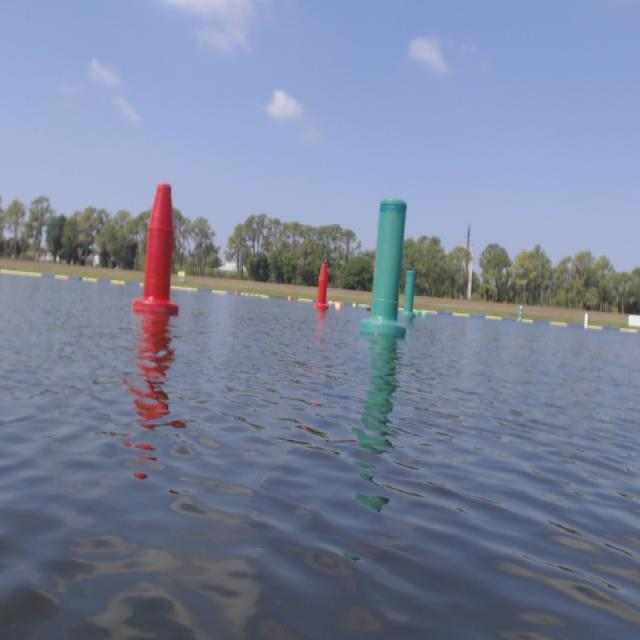Green_Buoy: (373, 193, 407, 345), (407, 273, 419, 316)
Red_Buoy: (134, 175, 177, 322), (319, 267, 331, 313)
